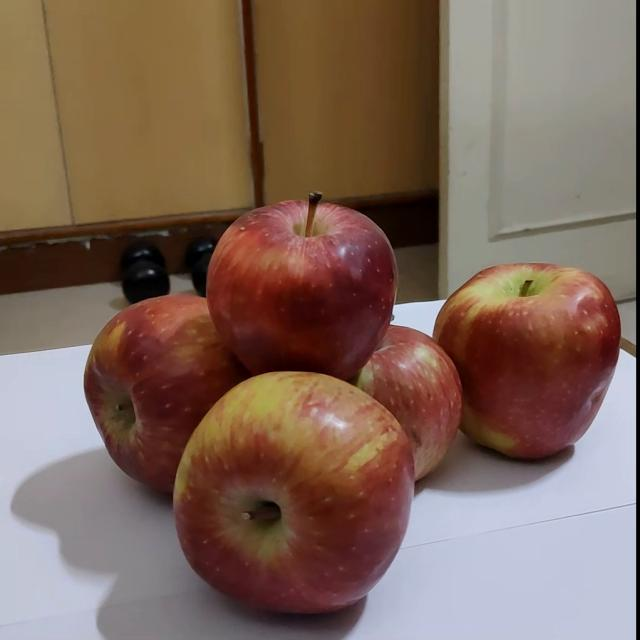apple: (208, 358, 458, 614), (432, 244, 627, 462), (87, 290, 287, 501), (230, 184, 425, 384)
